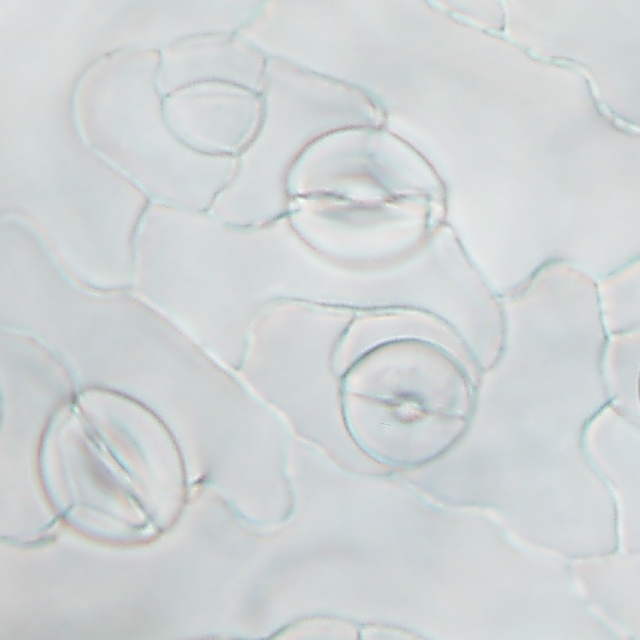center: (80, 426, 145, 507), (312, 175, 404, 220), (383, 393, 429, 422), (298, 626, 346, 629)
stomata-huw1: (39, 390, 186, 544), (286, 126, 444, 268), (340, 340, 474, 467), (269, 616, 375, 639)
